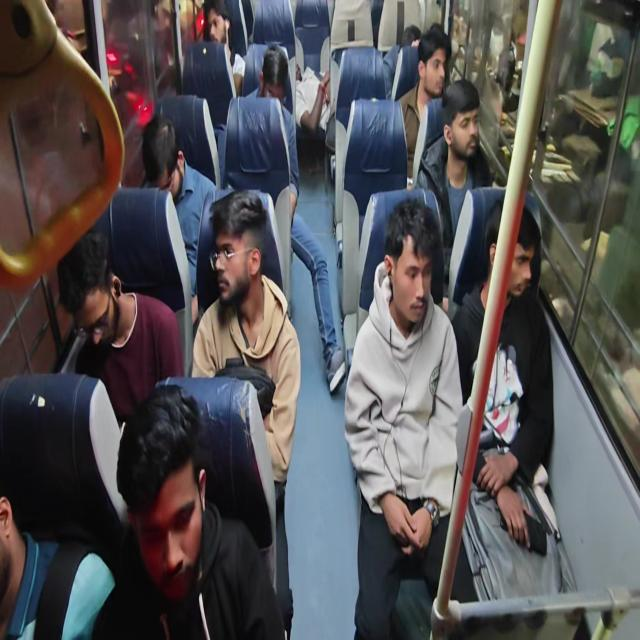person: (119, 378, 213, 602), (56, 217, 128, 353), (379, 193, 436, 329), (206, 193, 269, 314), (480, 193, 542, 299), (445, 78, 491, 167), (135, 114, 185, 194), (419, 17, 448, 101), (259, 45, 293, 101), (197, 2, 234, 43), (395, 23, 423, 48)
